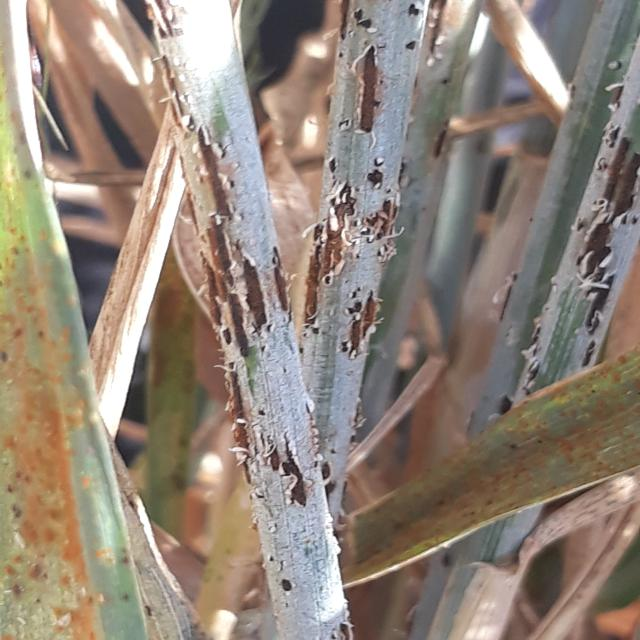black_stem_rust: (134, 0, 461, 640), (0, 8, 178, 640), (471, 0, 640, 640)
